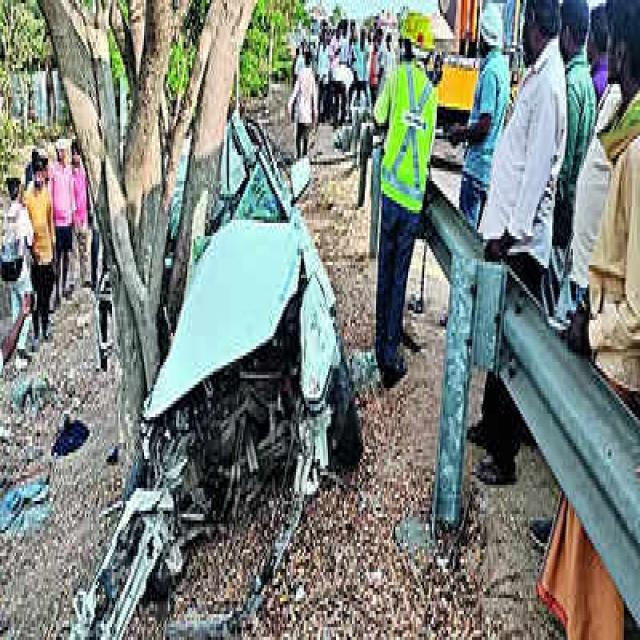accident: (74, 114, 360, 639)
